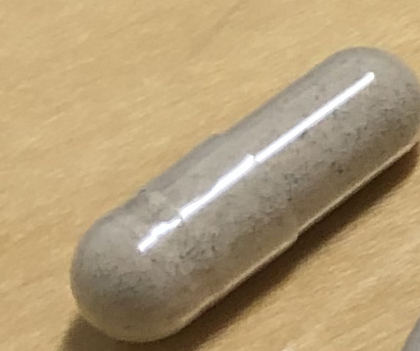capsule: (70, 46, 420, 344)
